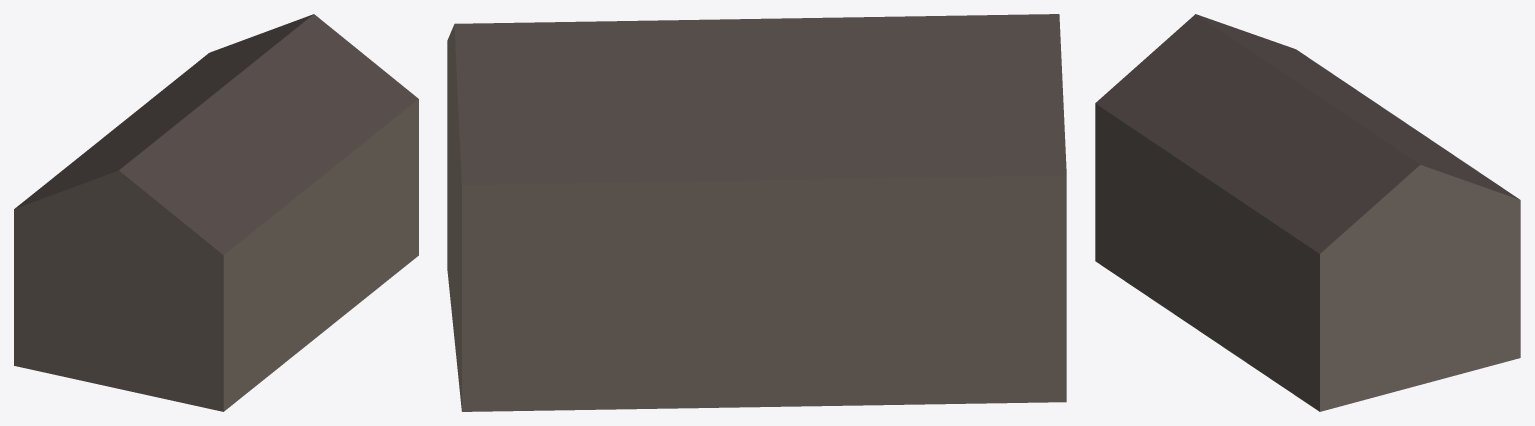
The picture shows the model from 3 angles, left to right: view 1: azimuth 30°, elevation 25°; view 2: azimuth 150°, elevation 25°; view 3: azimuth 270°, elevation 25°; orthographic projection. The views are drawn at different scales.
Parts seen in each view (by area): view 1: HP-w1512359748; view 2: HP-w1512359748; view 3: HP-w1512359748.
Part boxes in pixels (x1=…): HP-w1512359748: x1=14, y1=14, x2=418, y2=411; HP-w1512359748: x1=447, y1=14, x2=1066, y2=411; HP-w1512359748: x1=1095, y1=14, x2=1520, y2=411.
Bounding box in the file's own units: 25.04 × 12.55 × 21.99.
